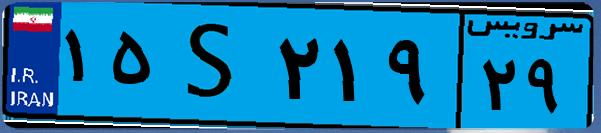1: (330, 28, 385, 110), (57, 26, 110, 100)
2: (270, 28, 330, 110), (475, 38, 525, 113)
5: (110, 28, 158, 98)
9: (385, 28, 445, 110), (525, 38, 570, 115)
S: (158, 12, 270, 120)
